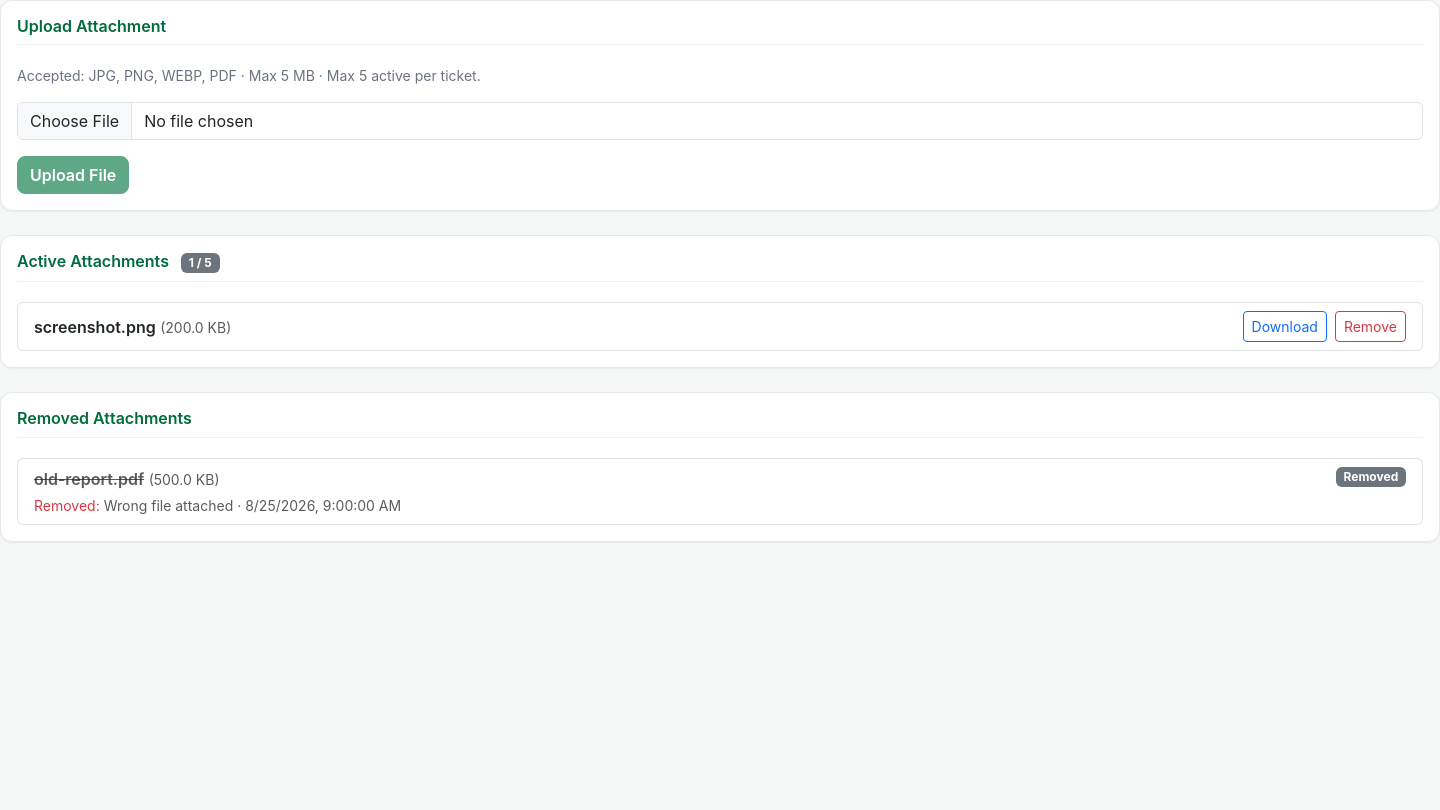
Test: UI-ATT-04 — Remove button triggers confirm dialog › submitting without a reason shows a validation error
This screenshot has width=1440, height=810.
Expected: the text "screenshot.png" is shown, [34, 317, 156, 337]
Click the button "Remove". click: [1370, 327]
box: [1335, 311, 1406, 342]
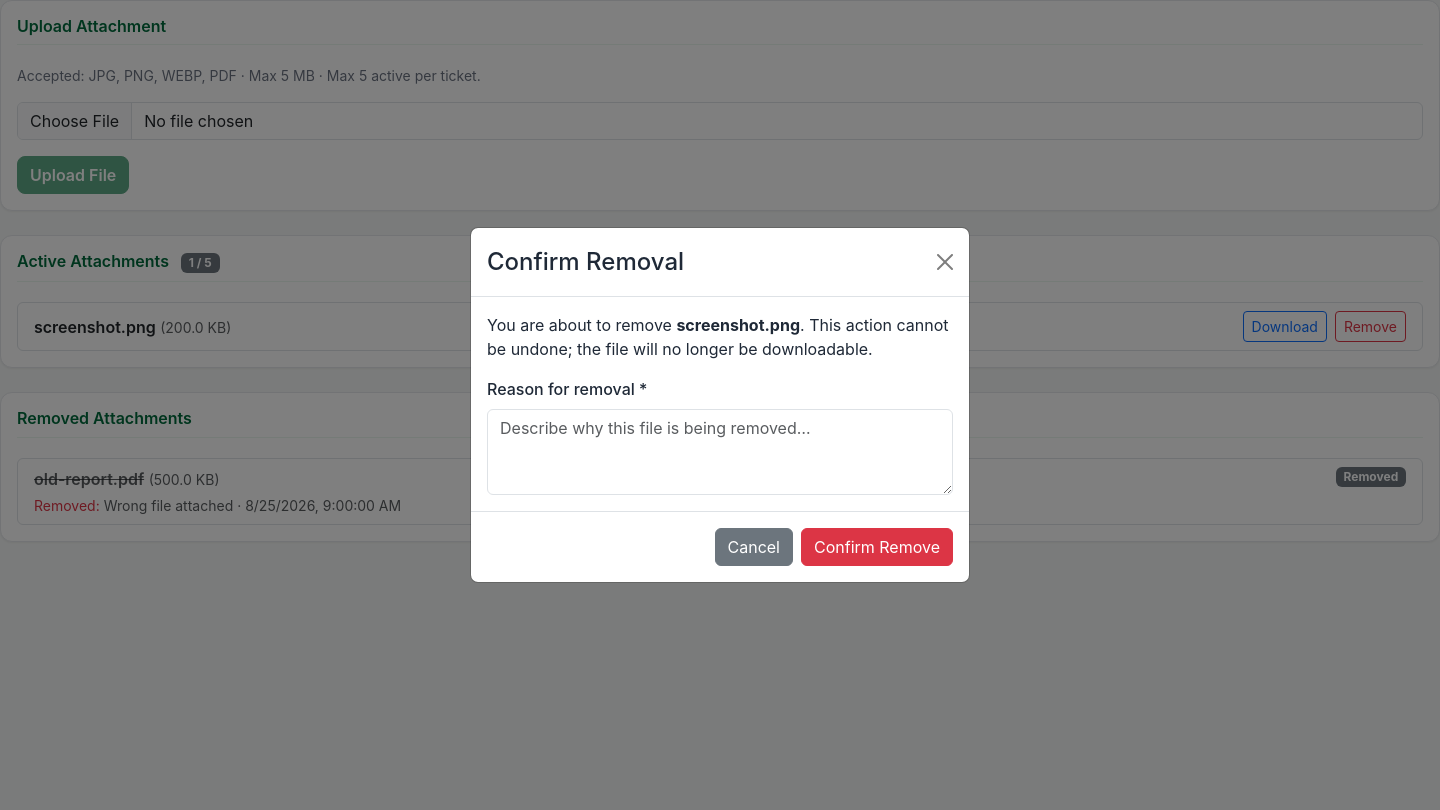
Now the dialog is shown, box [470, 227, 970, 583]
Click the button "Confirm Remove". click: [877, 547]
box: [801, 528, 953, 566]
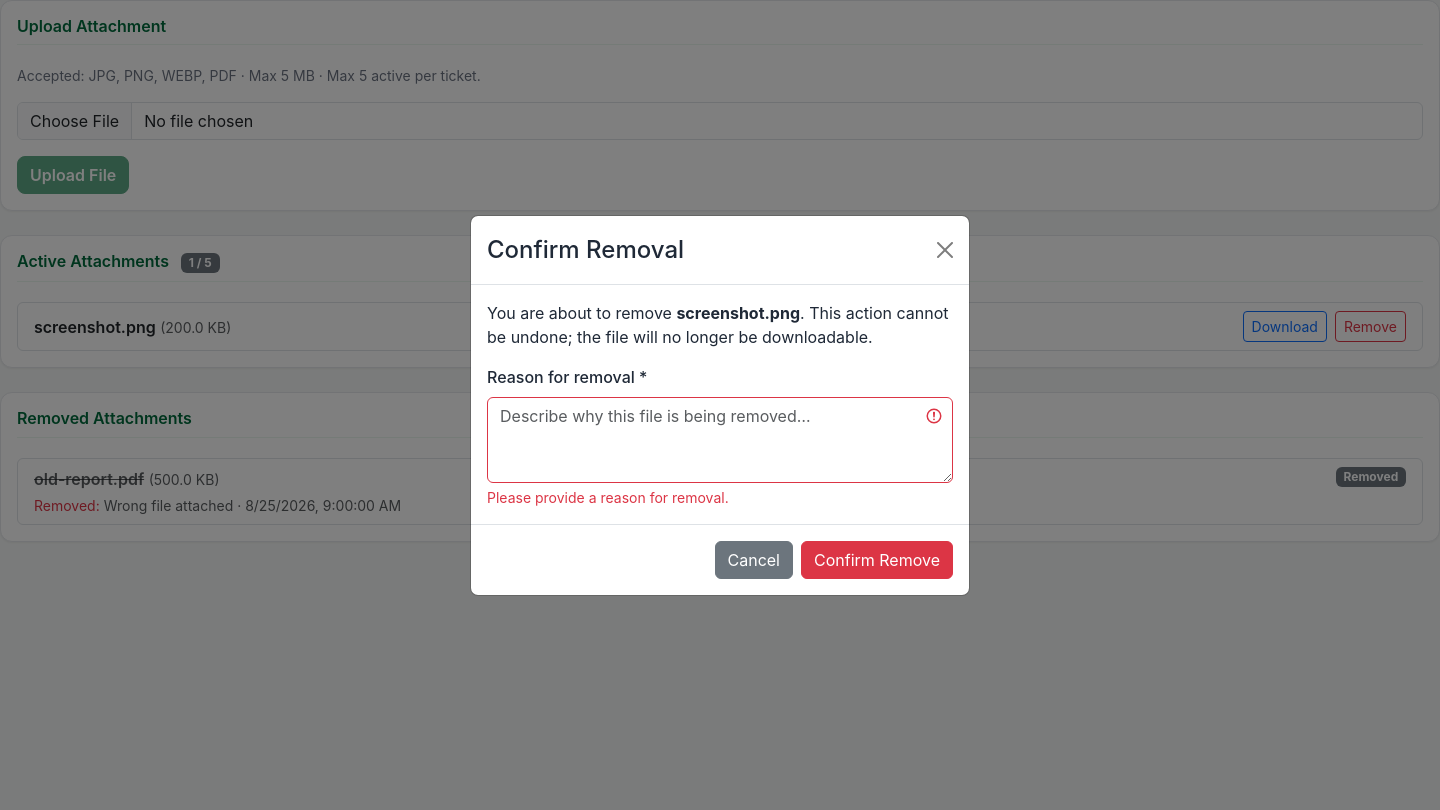
Now the text "Please provide a reason for removal." is shown, box [487, 488, 729, 506]
